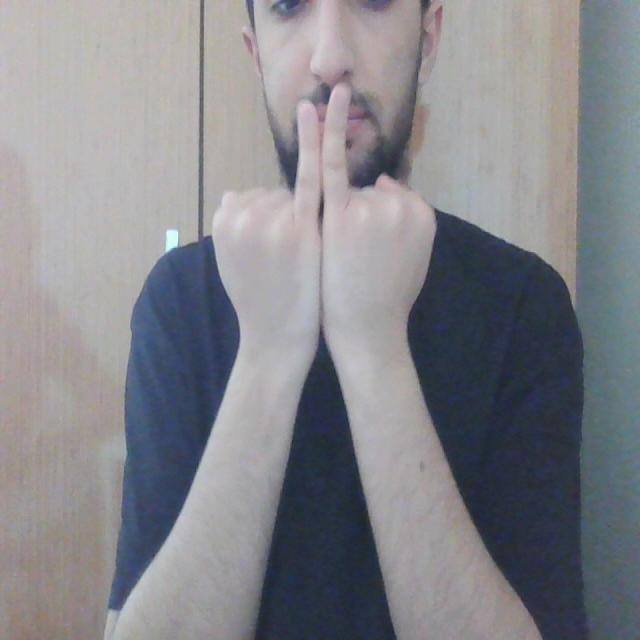Kardes: (209, 76, 441, 355)
